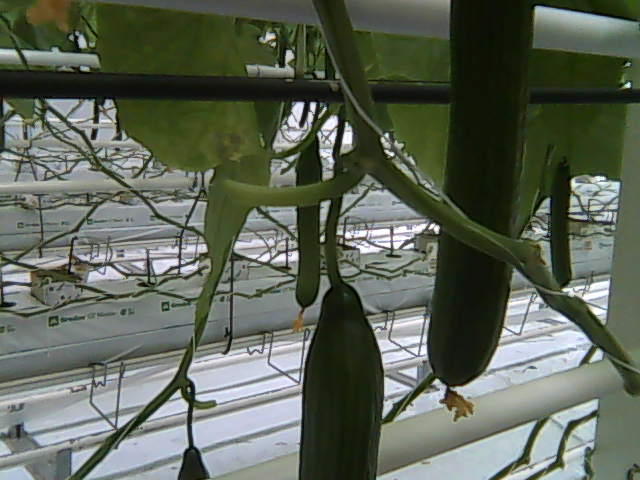concombre: (423, 1, 536, 423), (297, 276, 386, 480)
